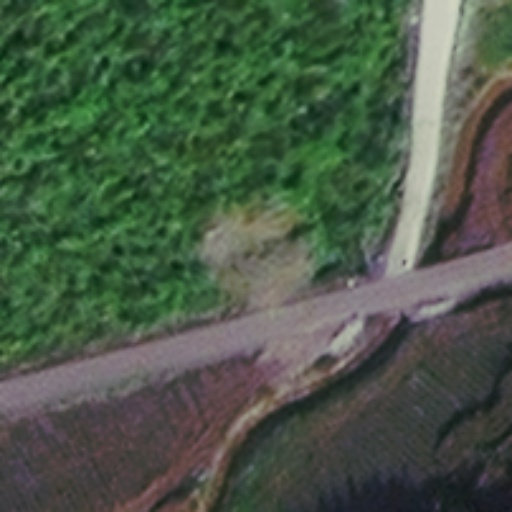landslide: (199, 199, 317, 309)
